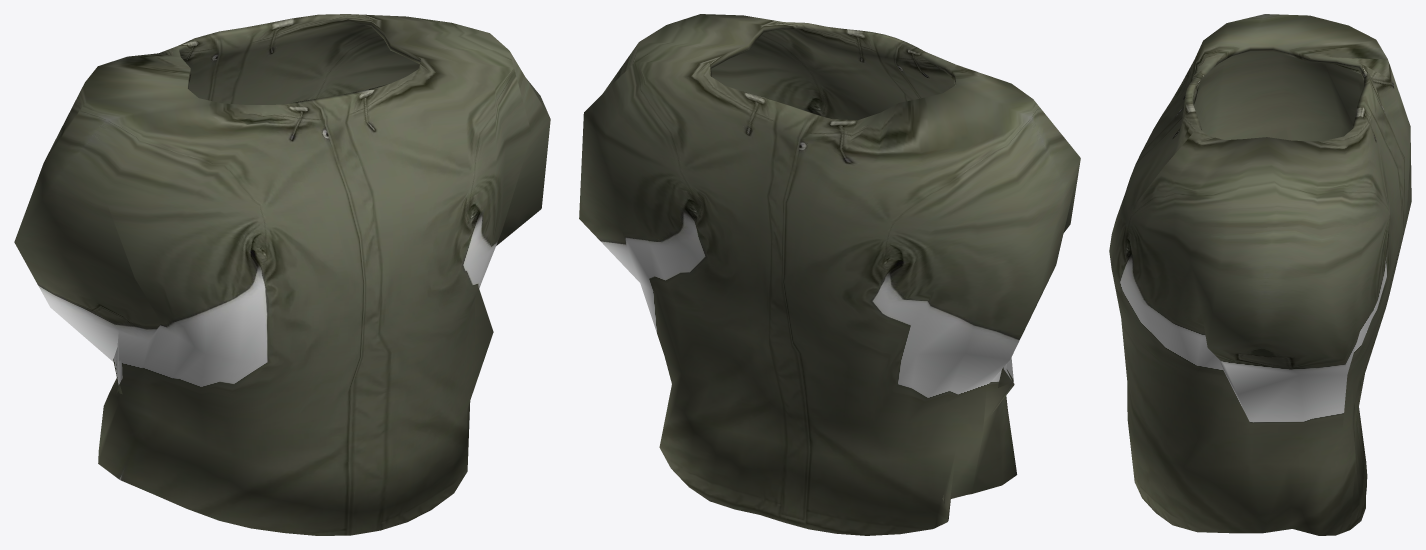
The model's file is c8202b54-b96a-457b-9294-28a87612deff.glb.
3 renders of one model, left to right at view 1: azimuth 30°, elevation 25°; view 2: azimuth 150°, elevation 25°; view 3: azimuth 270°, elevation 25°, orthographic. The views are drawn at different scales.
Parts seen in each view (by area): view 1: garment; view 2: garment; view 3: garment.
Boxes of the visible parts, x1=… form: garment: x1=14, y1=14, x2=550, y2=535; garment: x1=579, y1=14, x2=1080, y2=535; garment: x1=1109, y1=14, x2=1411, y2=535.
Size of the model in its own units: 0.5483 by 0.4613 by 0.3221.
1 material, 1 textured.
